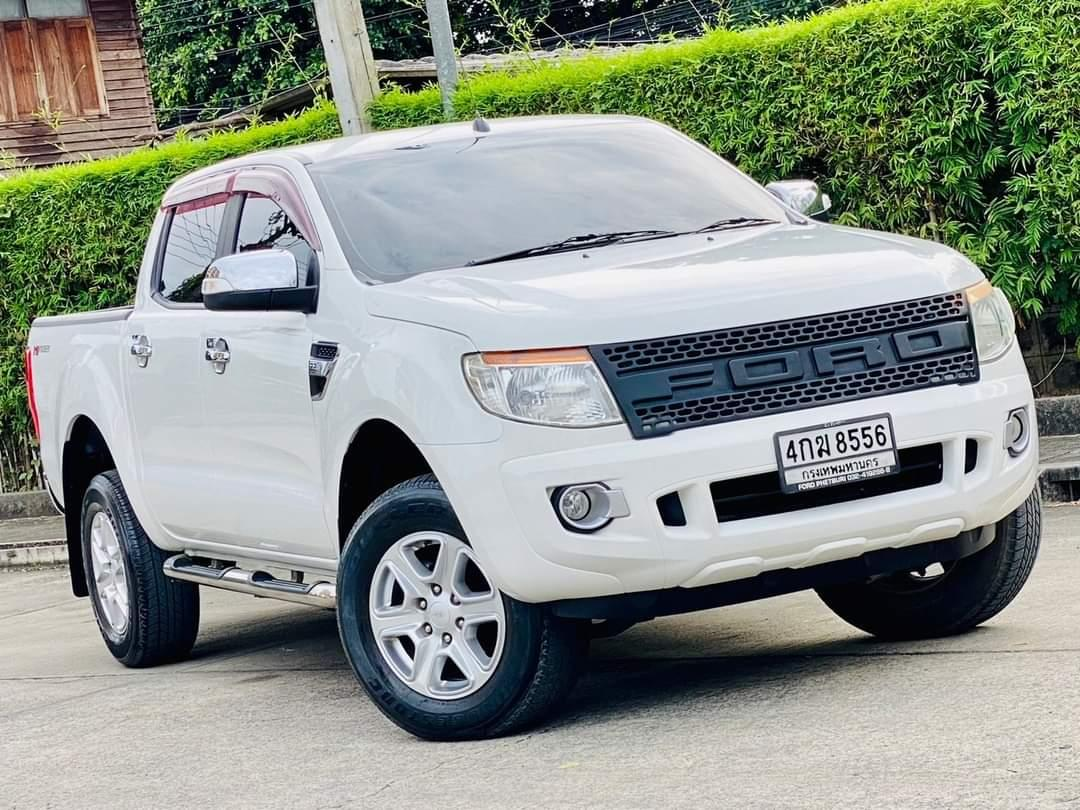license-plate: (771, 410, 902, 495)
